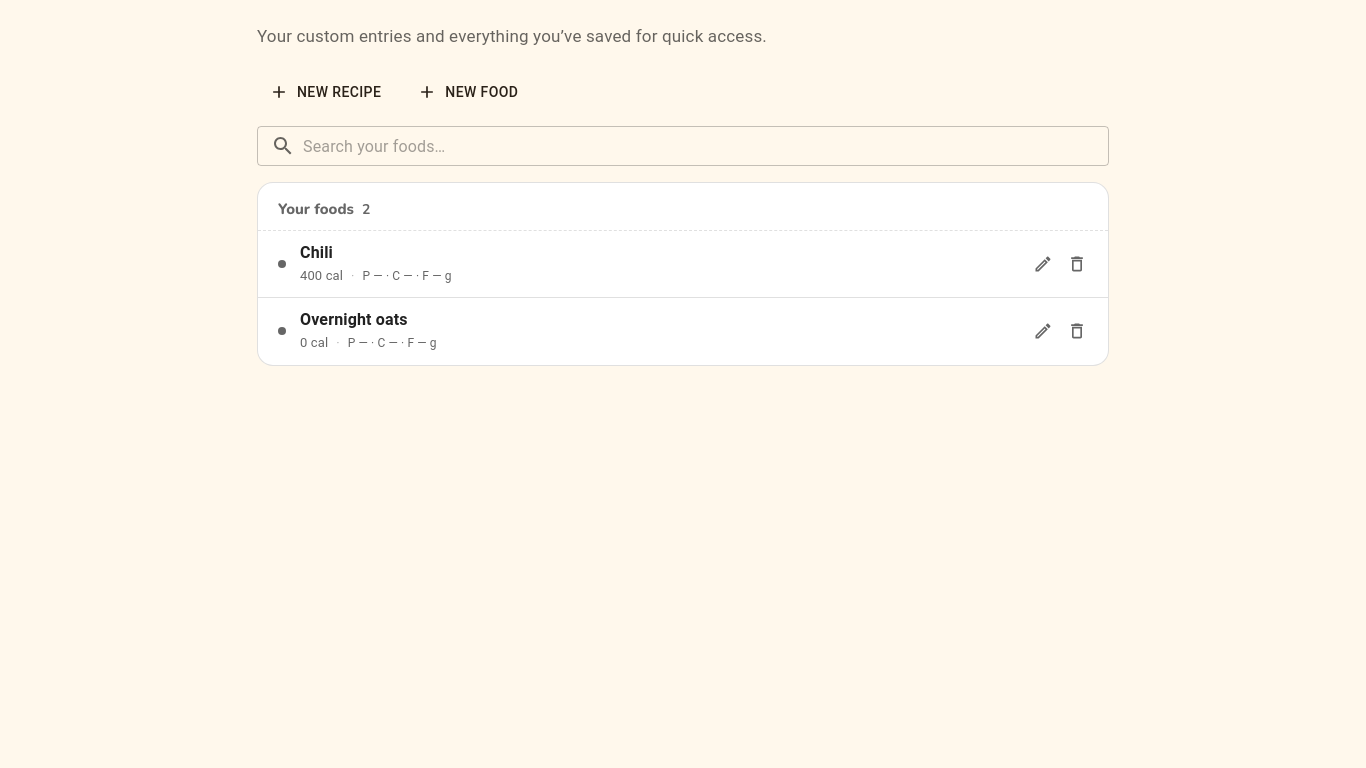
Test case: My Foods search › opens the editor for a row with no nutrition
The width and height of the screenshot is (1366, 768).
Step 1. Click the button named "edit overnight oats" → (1043, 331), box [1028,316,1058,346]
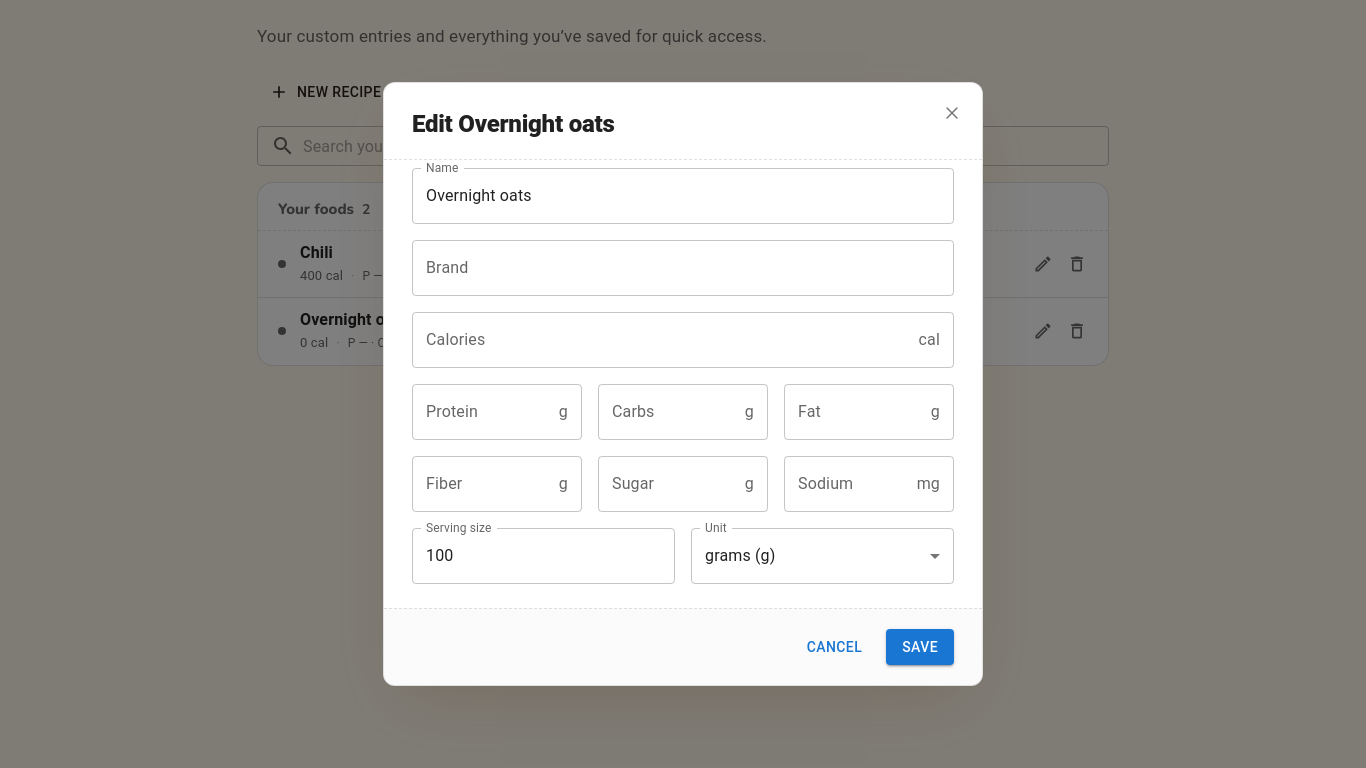
Result: the field showing "Overnight oats" is shown at [412,168,954,224]
